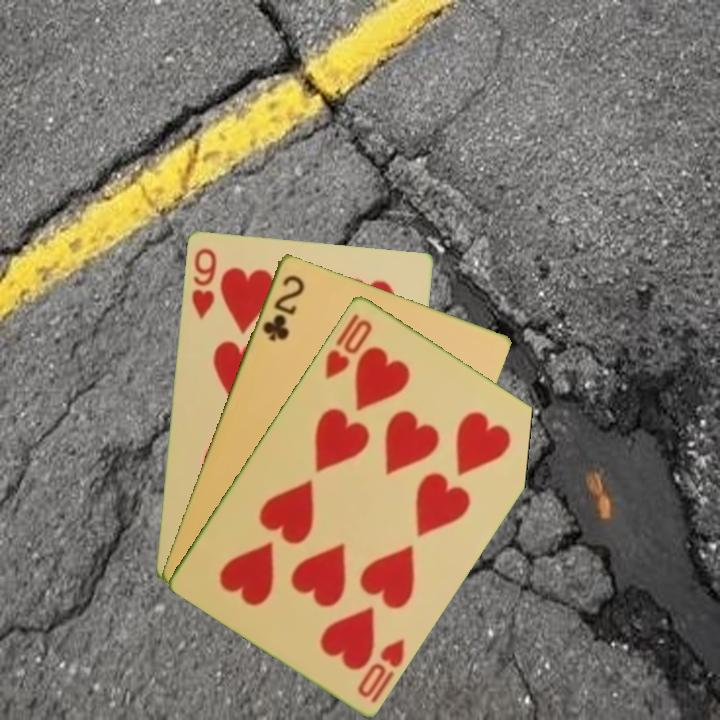10h: (353, 634, 408, 706), (321, 315, 376, 382)
2c: (258, 271, 307, 344)
9h: (187, 244, 219, 322)
